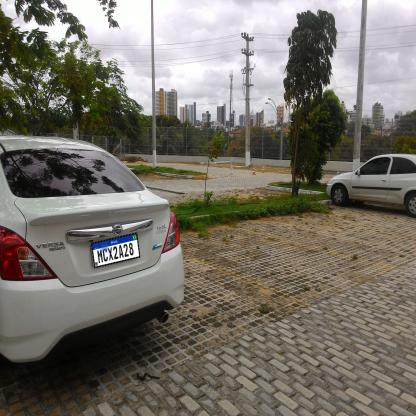PlacaM: (92, 232, 140, 268)
